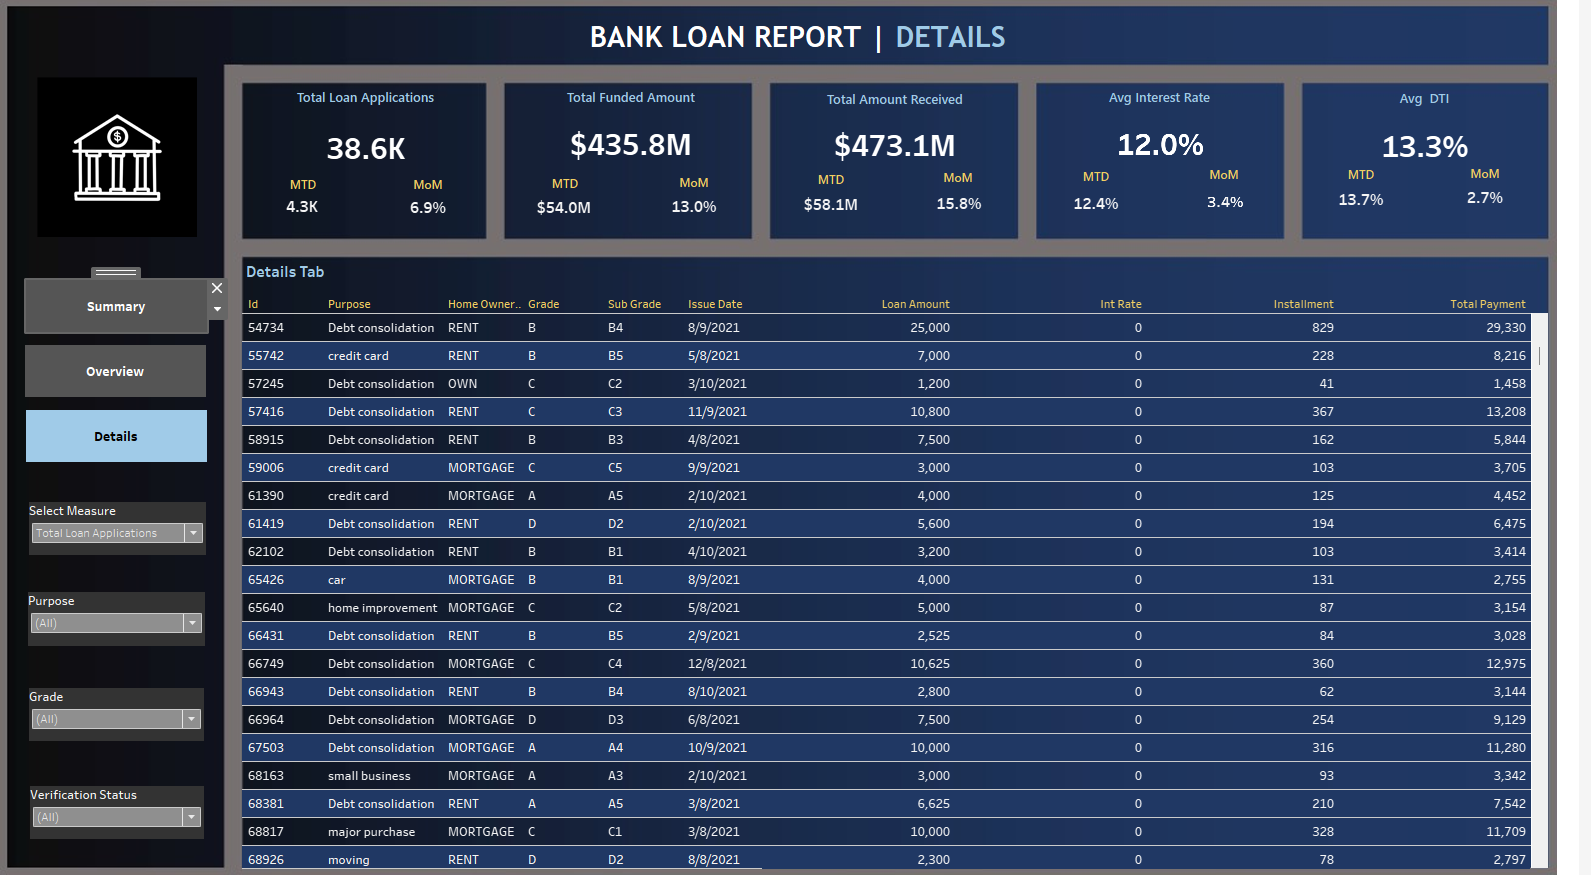

The page's visual inventory and layout, read from the dashboard file:
{"tool":"tableau","page":{"name":"DETAILS","canvas":[1600,900],"ordinal":0},"visuals":[{"type":"image","param":"D:/Projects/SQL+Tableau/Tableau Background 3.jpg","box":[8,8,1584,884]},{"type":"text","box":[608,23,475,53]},{"type":"image","param":"C:/Users/amrut/AppData/Local/Temp/TableauTemp/0uo6gw109sgqj40zrpzfc0bfufca/Sheet","box":[38,90,201,160]},{"type":"worksheet","title":"Total Loan Applications","mark":"Automatic","box":[265,97,243,93]},{"type":"worksheet","title":"Total Funded Amount","mark":"Automatic","box":[526,97,252,84]},{"type":"worksheet","title":"Avg Interest Rate","mark":"Automatic","box":[1054,97,253,85]},{"type":"worksheet","title":"Avg  DTI","mark":"Automatic","box":[1322,98,247,87]},{"type":"worksheet","title":"Total Amount Received","mark":"Automatic","box":[792,99,248,82]},{"type":"text","box":[1480,172,52,29]},{"type":"text","box":[1219,173,52,29]},{"type":"text","box":[1356,173,52,29]},{"type":"text","box":[1091,175,52,29]},{"type":"text","box":[953,176,52,29]},{"type":"text","box":[826,178,52,29]},{"type":"text","box":[689,181,52,29]},{"type":"text","box":[560,182,52,29]},{"type":"text","box":[298,183,52,29]},{"type":"text","box":[423,183,52,29]},{"type":"worksheet","title":"MTD Avg DTI","mark":"Automatic","box":[1350,193,64,38]},{"type":"worksheet","title":"MoM Avg DTI","mark":"Automatic","box":[1482,194,48,31]},{"type":"worksheet","title":"MTD Avg Int Rate","mark":"Automatic","box":[1087,195,59,41]},{"type":"worksheet","title":"MTD Total Amount Received","mark":"Automatic","box":[817,196,69,41]},{"type":"worksheet","title":"MoM Total Amount Received","mark":"Automatic","box":[947,196,65,39]},{"type":"worksheet","title":"MoM Avg Int Rate","mark":"Automatic","box":[1219,196,54,35]},{"type":"worksheet","title":"MTD Total Funded Amount","mark":"Automatic","box":[553,197,64,45]},{"type":"worksheet","title":"MoM Total Funded Amount","mark":"Automatic","box":[686,197,58,43]},{"type":"worksheet","title":"MTD Total Loan Applications","mark":"Automatic","box":[286,202,74,34]},{"type":"worksheet","title":"MoM Loan Applications","mark":"Automatic","box":[420,202,58,36]},{"type":"worksheet","title":"Details Tab","mark":"Automatic","rows":["id","purpose","home_ownership","grade","sub_grade","issue_date"],"box":[263,270,1306,612]},{"type":"dashboard-object","box":[47,293,181,52]},{"type":"dashboard-object","box":[46,358,181,52]},{"type":"dashboard-object","box":[47,423,181,52]},{"type":"parameter","param":"[Parameters].[Parameter 1]","box":[50,515,177,53]},{"type":"filter","title":"Avg  DTI","param":"[federated.0qi6f7n025kvux1dmza5b0lfinns].[none:purpose:nk]","box":[49,605,177,54]},{"type":"filter","title":"Avg  DTI","param":"[federated.0qi6f7n025kvux1dmza5b0lfinns].[none:grade:nk]","box":[50,701,175,53]},{"type":"filter","title":"Avg  DTI","param":"[federated.0qi6f7n025kvux1dmza5b0lfinns].[none:verification_status:nk]","box":[51,799,174,53]}]}

Visuals, with their boxes in screenshot pixels (x1, y1, x2, y2), scaled from the page's 1600x900 canvas onto the 1591x875 screenshot:
image: {"left": 8, "top": 8, "right": 1583, "bottom": 867}
text: {"left": 605, "top": 22, "right": 1077, "bottom": 74}
image: {"left": 38, "top": 88, "right": 238, "bottom": 243}
"Total Loan Applications" worksheet: {"left": 264, "top": 94, "right": 505, "bottom": 185}
"Total Funded Amount" worksheet: {"left": 523, "top": 94, "right": 774, "bottom": 176}
"Avg Interest Rate" worksheet: {"left": 1048, "top": 94, "right": 1300, "bottom": 177}
"Avg  DTI" worksheet: {"left": 1315, "top": 95, "right": 1560, "bottom": 180}
"Total Amount Received" worksheet: {"left": 788, "top": 96, "right": 1034, "bottom": 176}
text: {"left": 1472, "top": 167, "right": 1523, "bottom": 195}
text: {"left": 1212, "top": 168, "right": 1264, "bottom": 196}
text: {"left": 1348, "top": 168, "right": 1400, "bottom": 196}
text: {"left": 1085, "top": 170, "right": 1137, "bottom": 198}
text: {"left": 948, "top": 171, "right": 999, "bottom": 199}
text: {"left": 821, "top": 173, "right": 873, "bottom": 201}
text: {"left": 685, "top": 176, "right": 737, "bottom": 204}
text: {"left": 557, "top": 177, "right": 609, "bottom": 205}
text: {"left": 296, "top": 178, "right": 348, "bottom": 206}
text: {"left": 421, "top": 178, "right": 472, "bottom": 206}
"MTD Avg DTI" worksheet: {"left": 1342, "top": 188, "right": 1406, "bottom": 225}
"MoM Avg DTI" worksheet: {"left": 1474, "top": 189, "right": 1521, "bottom": 219}
"MTD Avg Int Rate" worksheet: {"left": 1081, "top": 190, "right": 1140, "bottom": 229}
"MTD Total Amount Received" worksheet: {"left": 812, "top": 191, "right": 881, "bottom": 230}
"MoM Total Amount Received" worksheet: {"left": 942, "top": 191, "right": 1006, "bottom": 228}
"MoM Avg Int Rate" worksheet: {"left": 1212, "top": 191, "right": 1266, "bottom": 225}
"MTD Total Funded Amount" worksheet: {"left": 550, "top": 192, "right": 614, "bottom": 235}
"MoM Total Funded Amount" worksheet: {"left": 682, "top": 192, "right": 740, "bottom": 233}
"MTD Total Loan Applications" worksheet: {"left": 284, "top": 196, "right": 358, "bottom": 229}
"MoM Loan Applications" worksheet: {"left": 418, "top": 196, "right": 475, "bottom": 231}
"Details Tab" worksheet: {"left": 262, "top": 262, "right": 1560, "bottom": 858}
dashboard-object: {"left": 47, "top": 285, "right": 227, "bottom": 335}
dashboard-object: {"left": 46, "top": 348, "right": 226, "bottom": 399}
dashboard-object: {"left": 47, "top": 411, "right": 227, "bottom": 462}
parameter: {"left": 50, "top": 501, "right": 226, "bottom": 552}
"Avg  DTI" filter: {"left": 49, "top": 588, "right": 225, "bottom": 641}
"Avg  DTI" filter: {"left": 50, "top": 682, "right": 224, "bottom": 733}
"Avg  DTI" filter: {"left": 51, "top": 777, "right": 224, "bottom": 828}
